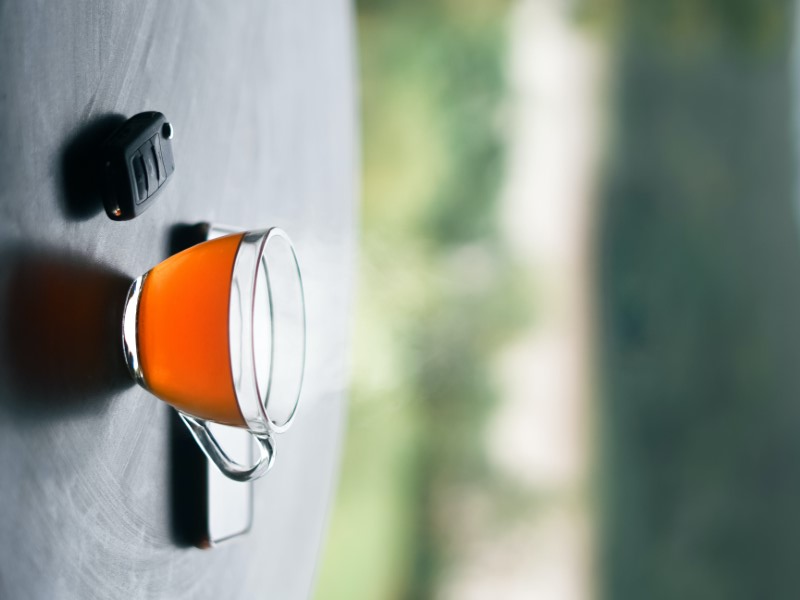carkey: (96, 99, 184, 221)
